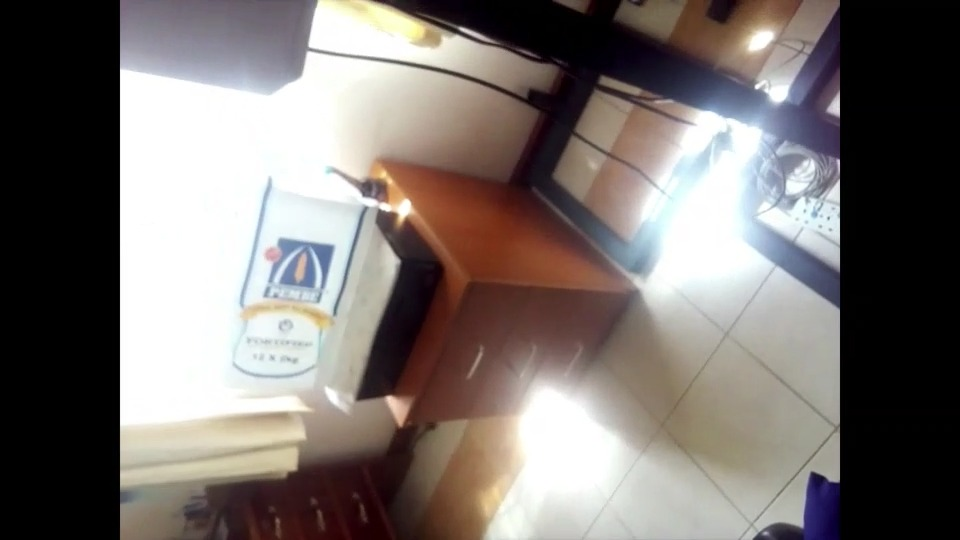wheat_flour_blue_label: (220, 174, 377, 396)
